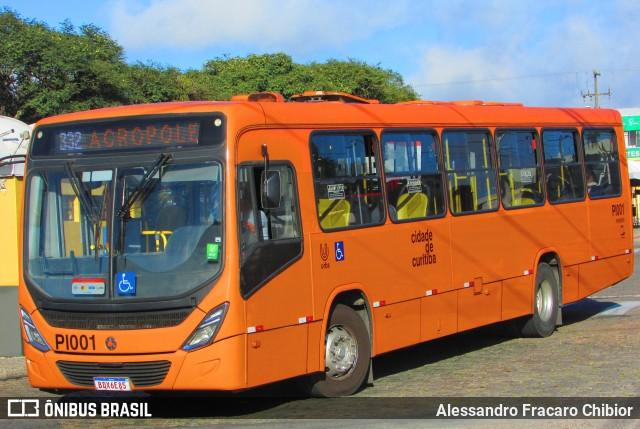ACROPOLE: (85, 119, 202, 151)
